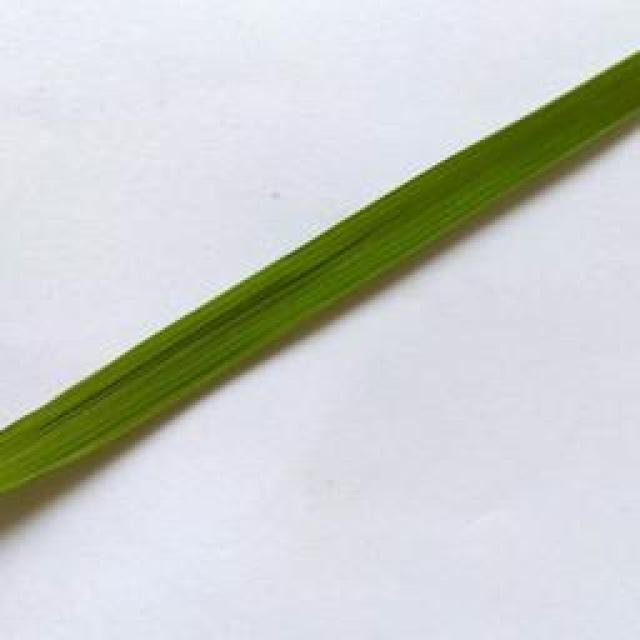Healthy-Plant: (0, 50, 640, 499)
